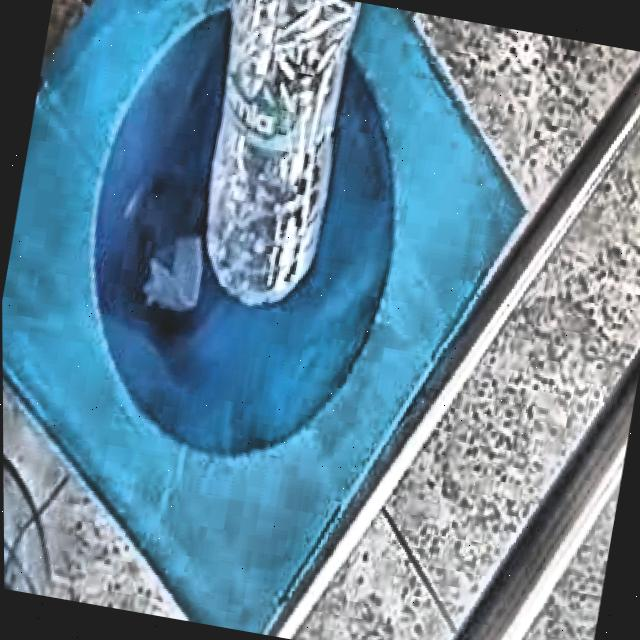plastic: (199, 0, 359, 307)
